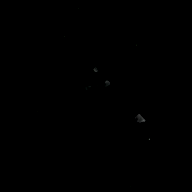v: (84, 66, 111, 91)
